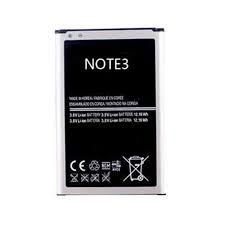battery: (37, 14, 181, 211)
